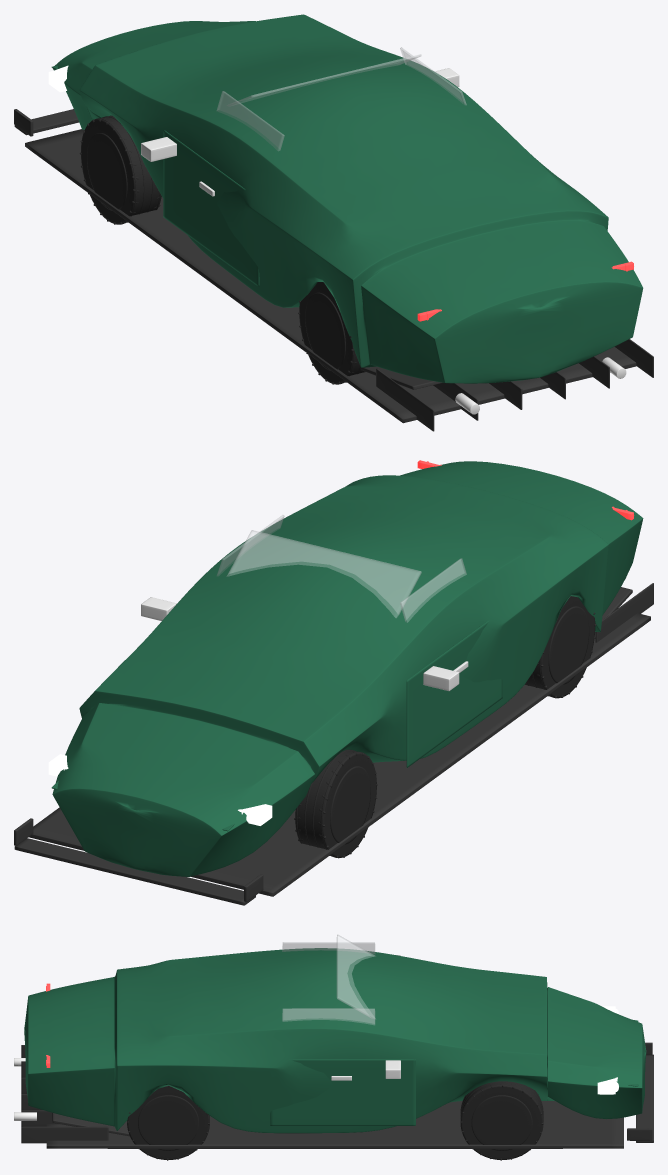
Rendered from vehicle.opt.glb.
3 renders of one model, top to bottom at view 1: azimuth 30°, elevation 25°; view 2: azimuth 150°, elevation 25°; view 3: azimuth 270°, elevation 25°, orthographic. The views are drawn at different scales.
Parts seen in each view (by area): view 1: BODY_MainShell, UNDERBODY_FlatFloor, BODY_Door_FL, WHEEL_FL_Tire, WHEEL_RL_Tire, GLASS_Greenhouse, JEWELRY_Hardware, AERO_FrontSplitter; view 2: BODY_MainShell, UNDERBODY_FlatFloor, GLASS_Greenhouse, WHEEL_FL_Tire, BODY_Door_FL, AERO_FrontSplitter, WHEEL_RL_Tire, JEWELRY_Hardware, LIGHTING_Headlamps; view 3: BODY_MainShell, UNDERBODY_FlatFloor, BODY_Door_FR, WHEEL_FR_Tire, WHEEL_RR_Tire, GLASS_Greenhouse, AERO_FrontSplitter, JEWELRY_Hardware, LIGHTING_Headlamps.
Part boxes in pixels (x1,y1,x2,y2): BODY_MainShell: (52, 14, 643, 383); UNDERBODY_FlatFloor: (25, 129, 653, 431); BODY_Door_FL: (163, 130, 259, 286); WHEEL_FL_Tire: (79, 115, 161, 224); WHEEL_RL_Tire: (298, 282, 365, 384); GLASS_Greenhouse: (216, 47, 466, 150); JEWELRY_Hardware: (141, 68, 459, 196); AERO_FrontSplitter: (14, 109, 78, 136); BODY_MainShell: (52, 461, 643, 876); UNDERBODY_FlatFloor: (29, 583, 653, 896); GLASS_Greenhouse: (217, 515, 466, 622); WHEEL_FL_Tire: (294, 749, 377, 858); BODY_Door_FL: (406, 620, 502, 767); AERO_FrontSplitter: (14, 818, 263, 905); WHEEL_RL_Tire: (525, 596, 596, 698); JEWELRY_Hardware: (141, 597, 468, 691); LIGHTING_Headlamps: (48, 754, 272, 825); BODY_MainShell: (24, 948, 646, 1133); UNDERBODY_FlatFloor: (21, 1045, 623, 1148); BODY_Door_FR: (270, 1059, 415, 1125); WHEEL_FR_Tire: (460, 1081, 543, 1160); WHEEL_RR_Tire: (127, 1085, 209, 1160); GLASS_Greenhouse: (282, 934, 375, 1024); AERO_FrontSplitter: (627, 1042, 653, 1142); JEWELRY_Hardware: (331, 955, 400, 1080); LIGHTING_Headlamps: (597, 1006, 618, 1094).
Size of what is drawn, in the model's own units: 2.11 by 1.28 by 4.97.
